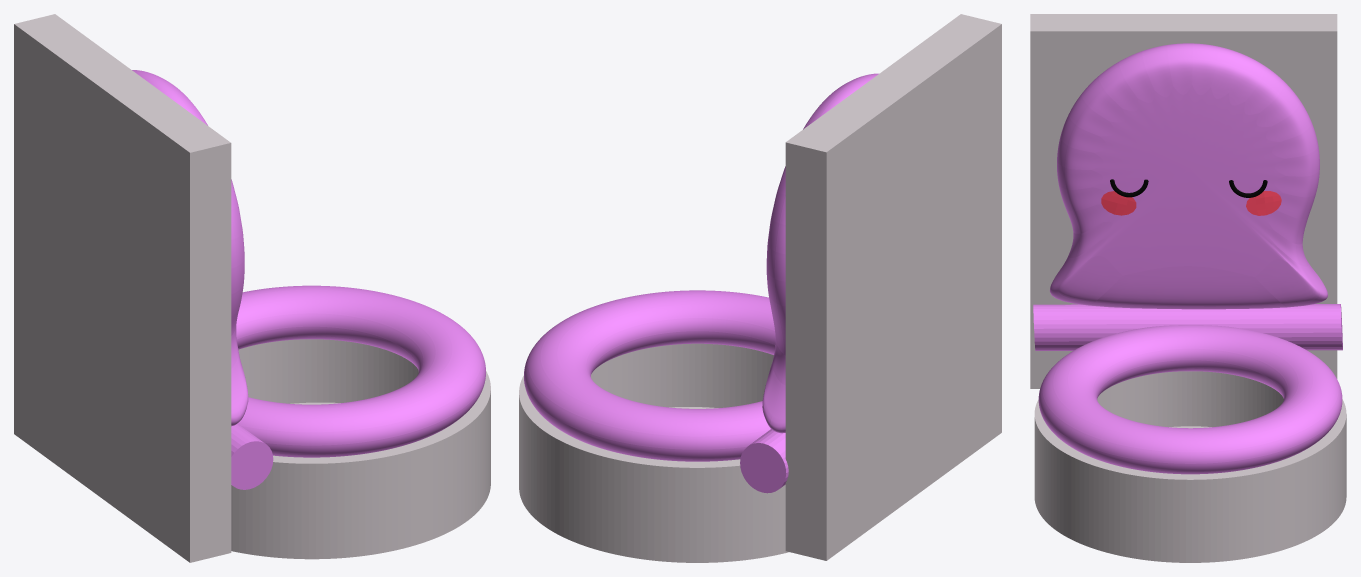
File: toiletdef1.fbx
3 renders of one model, left to right at view 1: azimuth 30°, elevation 25°; view 2: azimuth 150°, elevation 25°; view 3: azimuth 270°, elevation 25°, orthographic. The views are drawn at different scales.
Parts seen in each view (by area): view 1: Tapa Back.001, Tapa lower.001, Cylinder.004, Cylinder.002, Tapa.001, Cylinder.001; view 2: Tapa Back.001, Cylinder.004, Tapa lower.001, Cylinder.002, Tapa.001, Cylinder.001; view 3: Tapa.001, Tapa Back.001, Cylinder.004, Tapa lower.001, Cylinder.001, Cylinder.002, Plane.011, Plane.012.
Boxes of the visible parts, left/top/right/bottom form: Tapa Back.001: left=14, top=14, right=231, bottom=562; Tapa lower.001: left=236, top=285, right=485, bottom=457; Cylinder.004: left=231, top=371, right=490, bottom=559; Cylinder.002: left=238, top=339, right=418, bottom=404; Tapa.001: left=132, top=70, right=248, bottom=426; Cylinder.001: left=231, top=423, right=273, bottom=489; Tapa Back.001: left=785, top=14, right=1001, bottom=560; Cylinder.004: left=519, top=375, right=788, bottom=562; Tapa lower.001: left=524, top=290, right=775, bottom=461; Cylinder.002: left=591, top=343, right=773, bottom=408; Tapa.001: left=762, top=73, right=878, bottom=433; Cylinder.001: left=740, top=429, right=788, bottom=493; Tapa.001: left=1049, top=43, right=1327, bottom=309; Tapa Back.001: left=1030, top=14, right=1337, bottom=388; Cylinder.004: left=1034, top=399, right=1346, bottom=562; Tapa lower.001: left=1038, top=325, right=1342, bottom=474; Cylinder.001: left=1033, top=304, right=1342, bottom=350; Cylinder.002: left=1097, top=371, right=1283, bottom=428; Plane.011: left=1246, top=191, right=1281, bottom=215; Plane.012: left=1101, top=191, right=1136, bottom=215.
Size of the model in its own units: 809 by 943 by 689.
